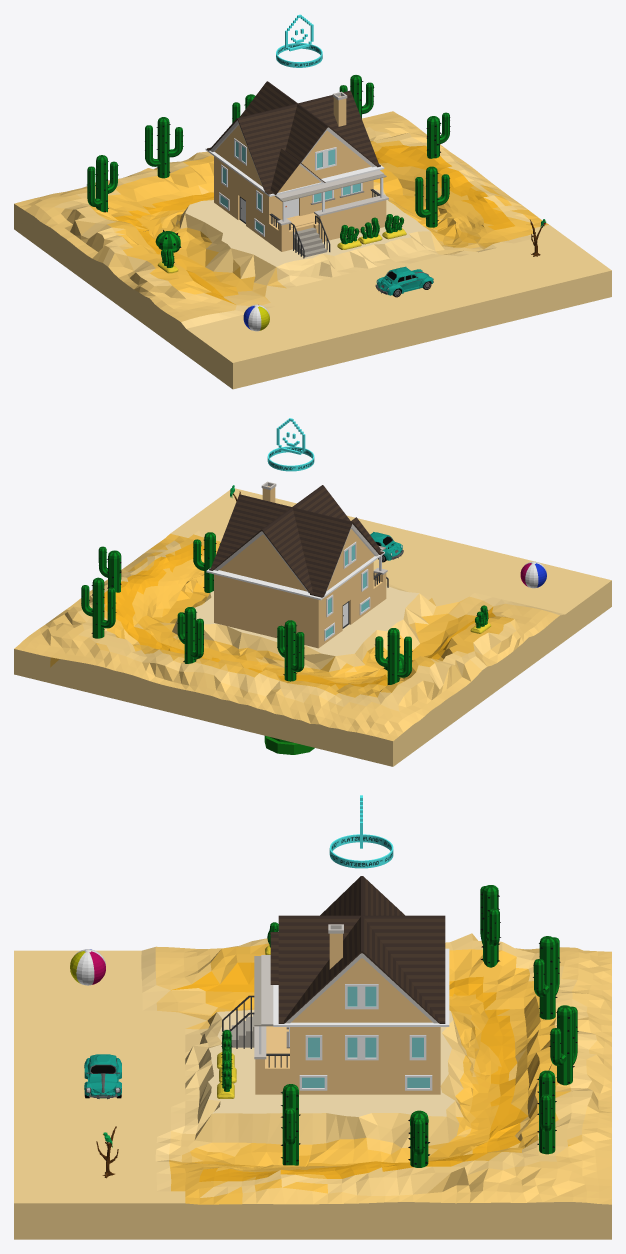
3 renders of one model, top to bottom at view 1: azimuth 30°, elevation 25°; view 2: azimuth 150°, elevation 25°; view 3: azimuth 270°, elevation 25°, orthographic. The views are drawn at different scales.
Parts seen in each view (by area): view 1: Cube.001, Cube.235, Cylinder.044, Cylinder.037, Cylinder.045, VEHICLES_VOLKSWAGEN, TYPE_PREMIUM, Cylinder.038, Cylinder.042, OBJRANDOM_BEACHBALL; view 2: Cube.001, Cube.235, Cylinder.042, Cylinder.045, Cylinder.044, Cylinder.043, TYPE_PREMIUM, Cylinder.037, Cylinder.038, UNDERGROUND_PIPES, OBJRANDOM_BEACHBALL, VEHICLES_VOLKSWAGEN; view 3: Cube.001, Cube.235, Cylinder.044, Cylinder.043, VEHICLES_VOLKSWAGEN, Cylinder.045, Cylinder.042, Cylinder.037, TYPE_PREMIUM, OBJRANDOM_BEACHBALL, Cylinder.038.
Part boxes in pixels (x1=…): Cube.001: x1=14, y1=111, x2=611, y2=389; Cube.235: x1=205, y1=81, x2=388, y2=258; Cylinder.044: x1=145, y1=117, x2=183, y2=178; Cylinder.037: x1=415, y1=166, x2=449, y2=227; Cylinder.045: x1=87, y1=155, x2=118, y2=212; VEHICLES_VOLKSWAGEN: x1=375, y1=266, x2=433, y2=297; TYPE_PREMIUM: x1=276, y1=14, x2=322, y2=67; Cylinder.038: x1=426, y1=112, x2=450, y2=158; Cylinder.042: x1=339, y1=75, x2=374, y2=118; OBJRANDOM_BEACHBALL: x1=243, y1=304, x2=269, y2=331; Cube.001: x1=14, y1=488, x2=611, y2=766; Cube.235: x1=206, y1=481, x2=388, y2=648; Cylinder.042: x1=81, y1=577, x2=116, y2=638; Cylinder.045: x1=374, y1=628, x2=412, y2=684; Cylinder.044: x1=277, y1=620, x2=304, y2=681; Cylinder.043: x1=177, y1=607, x2=203, y2=663; TYPE_PREMIUM: x1=267, y1=418, x2=314, y2=471; Cylinder.037: x1=193, y1=532, x2=220, y2=592; Cylinder.038: x1=98, y1=546, x2=121, y2=592; UNDERGROUND_PIPES: x1=264, y1=736, x2=314, y2=754; OBJRANDOM_BEACHBALL: x1=520, y1=561, x2=546, y2=588; VEHICLES_VOLKSWAGEN: x1=370, y1=532, x2=403, y2=562; Cube.001: x1=14, y1=933, x2=611, y2=1239; Cube.235: x1=222, y1=876, x2=449, y2=1094; Cylinder.044: x1=533, y1=936, x2=560, y2=1019; Cylinder.043: x1=549, y1=1005, x2=578, y2=1085; VEHICLES_VOLKSWAGEN: x1=84, y1=1054, x2=121, y2=1099; Cylinder.045: x1=480, y1=885, x2=500, y2=967; Cylinder.042: x1=537, y1=1070, x2=556, y2=1154; Cylinder.037: x1=281, y1=1084, x2=300, y2=1165; TYPE_PREMIUM: x1=329, y1=795, x2=393, y2=868; OBJRANDOM_BEACHBALL: x1=70, y1=949, x2=105, y2=985; Cylinder.038: x1=408, y1=1110, x2=429, y2=1167.
Size of the model in its own units: 4002 by 3021 by 4001.
36 materials, 3 textured.
